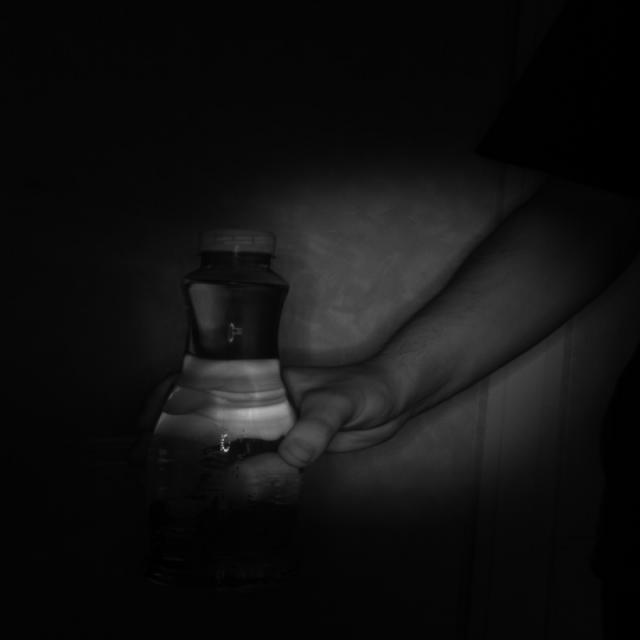Good: (195, 224, 285, 258)
